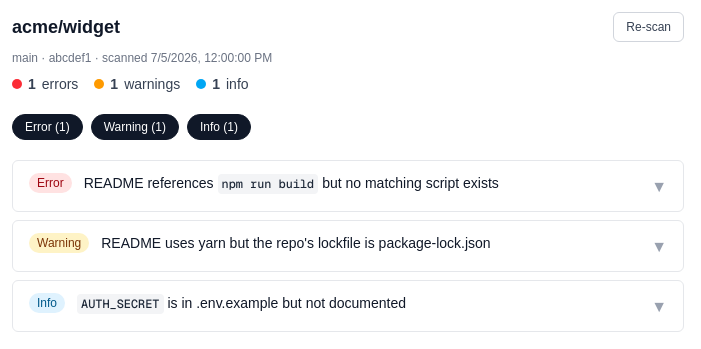
Scenario: ReportView › filters findings when a severity chip is toggled off
Toggle "error" off — the error finding should disappear.
What coordinates should you click on to do the following:
click the button "error (1)"
I would click on:
 (47, 127)
Its box is [12,114,83,140].
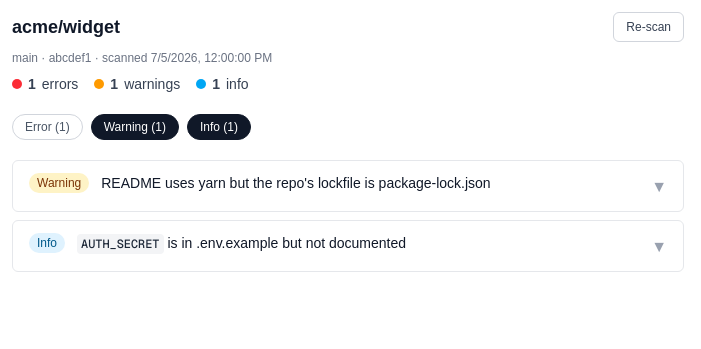
Expected: the text "AUTH_SECRET is in .env.example but not documented" is shown, [77,234,406,254]
Expected: the button "README references" is gone
